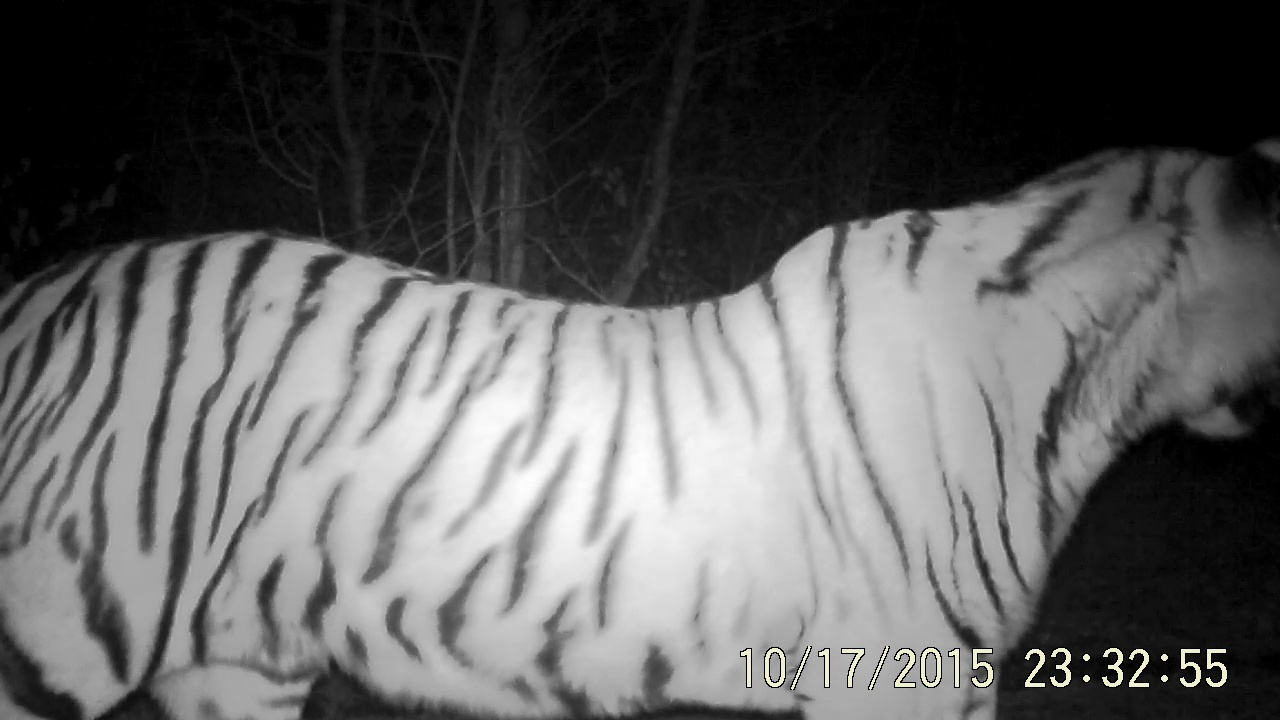Tiger: (8, 9, 1280, 720)
